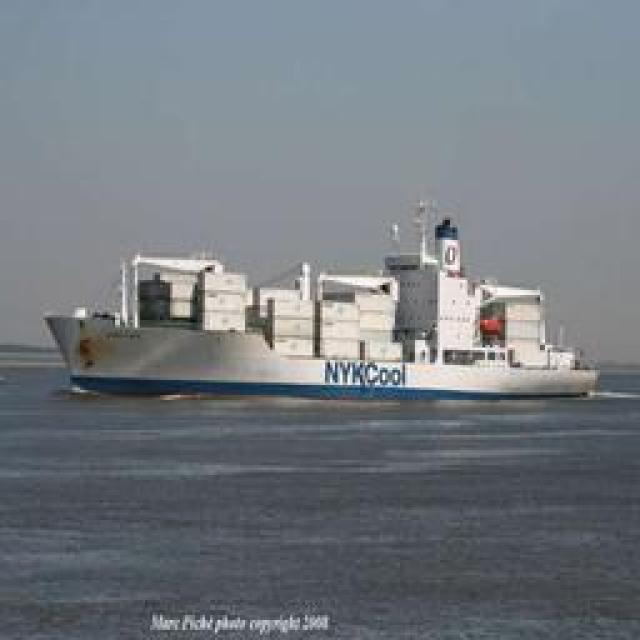CIV_Ship: (39, 210, 589, 402)
